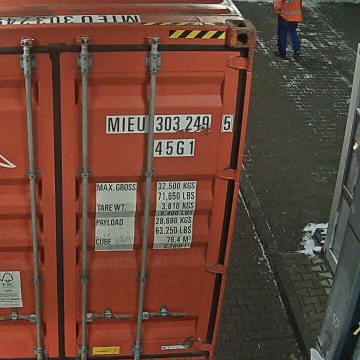serial_id: (107, 116, 231, 131)
